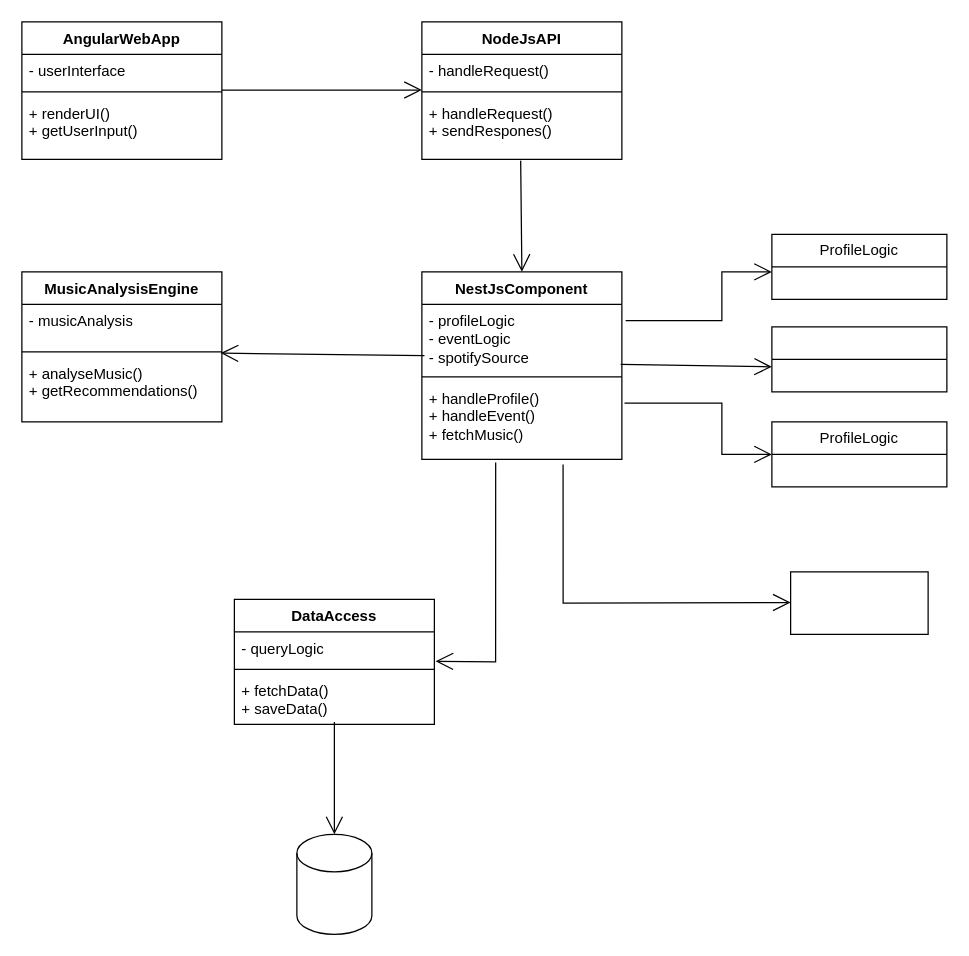
The diagram is 969 pixels wide and 956 high, and some of its shapes have lost their labels. The shapes that lost their labels are listed below. From the top down, each one's centre as x and y in pixels, then its label:
[859,359]: EventLogic
[858,602]: Spotify API
